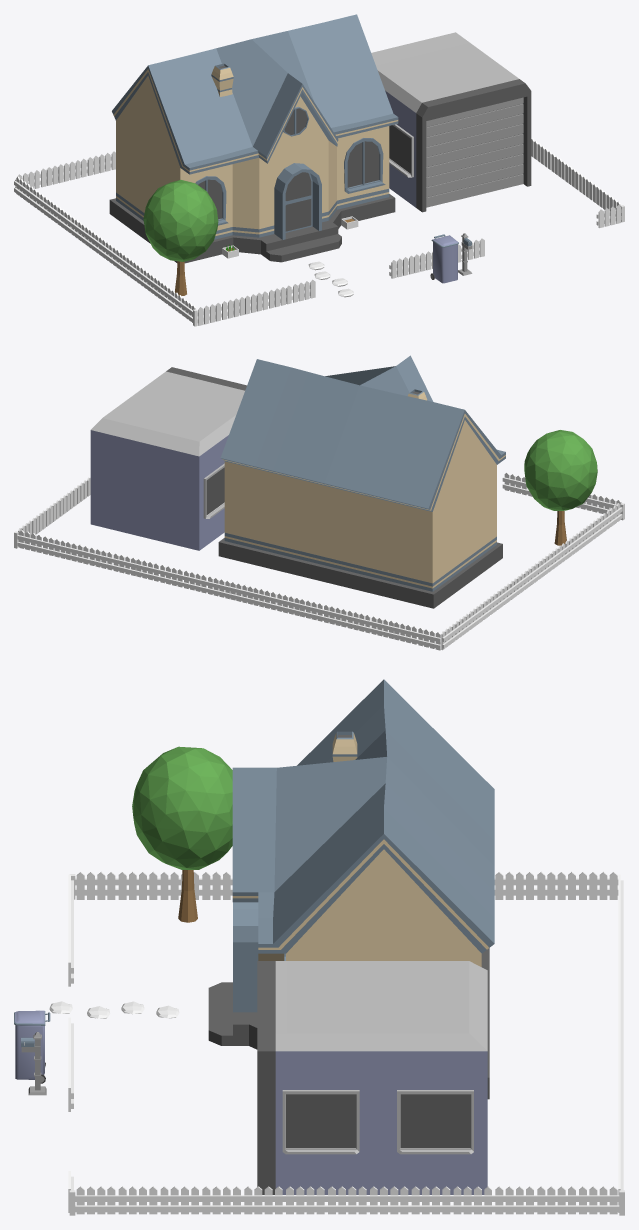
The model's file is House 1.fbx.
3 renders of one model, top to bottom at view 1: azimuth 30°, elevation 25°; view 2: azimuth 150°, elevation 25°; view 3: azimuth 270°, elevation 25°, orthographic. The views are drawn at different scales.
Visible parts, largest first — view 1: House Fence.197_Color_0; view 2: House Fence.197_Color_0; view 3: House Fence.197_Color_0.
Part boxes in pixels (<box>): House Fence.197_Color_0: <box>14,14,624,326</box>; House Fence.197_Color_0: <box>14,355,624,650</box>; House Fence.197_Color_0: <box>14,679,624,1215</box>.
Bounding box in the file's own units: 2123 × 806 × 1697.
Materials: 1 (1 with a texture image).
